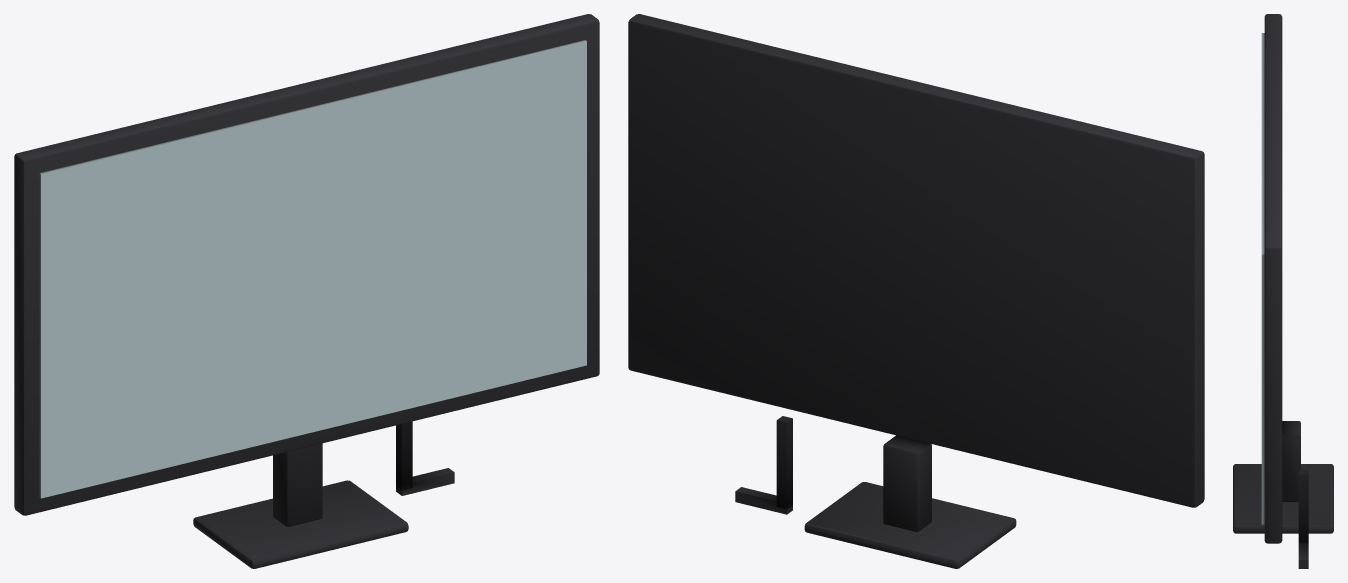
Rendered from tv_flat.glb.
The picture shows the model from 3 angles, left to right: view 1: azimuth 30°, elevation 25°; view 2: azimuth 150°, elevation 25°; view 3: azimuth 270°, elevation 25°; orthographic projection. The views are drawn at different scales.
Visible parts, largest first — view 1: tv_flat; view 2: tv_flat; view 3: tv_flat.
Part boxes in pixels (x1,y1,x2,y2): tv_flat: [14, 14, 599, 568]; tv_flat: [628, 14, 1204, 568]; tv_flat: [1233, 14, 1333, 568].
Bounding box in the file's own units: 1.1 × 0.815 × 0.2.
